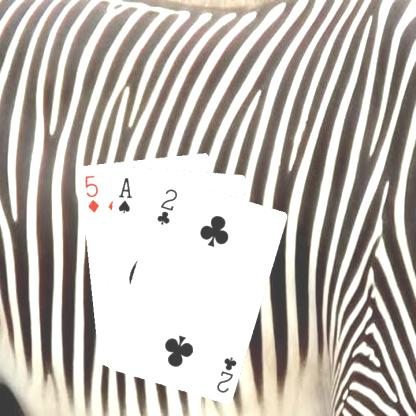2C: (154, 185, 178, 226), (214, 354, 238, 394)
5D: (82, 172, 100, 214)
AS: (115, 174, 133, 214)
